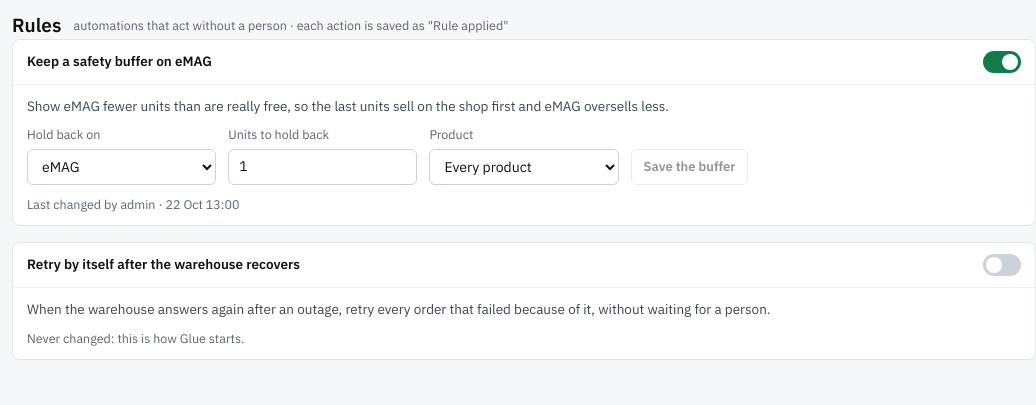
Test: shows why the API refused a rule change
Click the switch named "Keep a safety buffer on eMAG": (1002, 62) [983,51,1021,73]
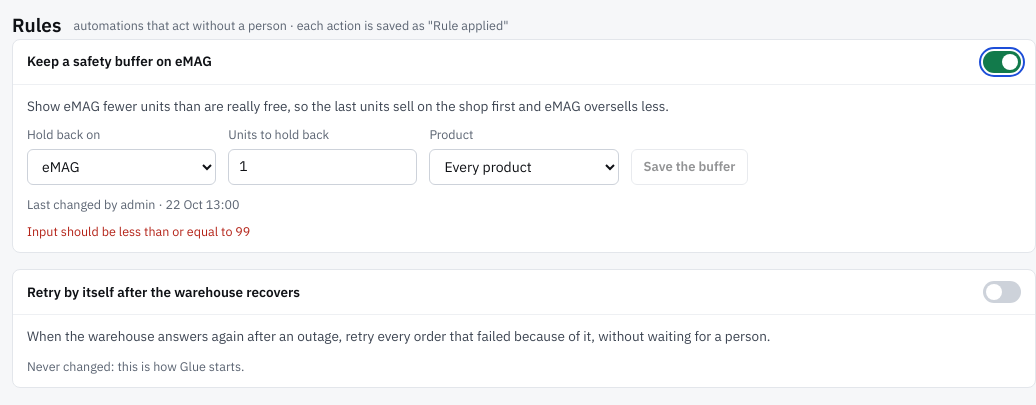
Result: the message reads "Input should be less than or equal to 99" at [27,223,250,239]
